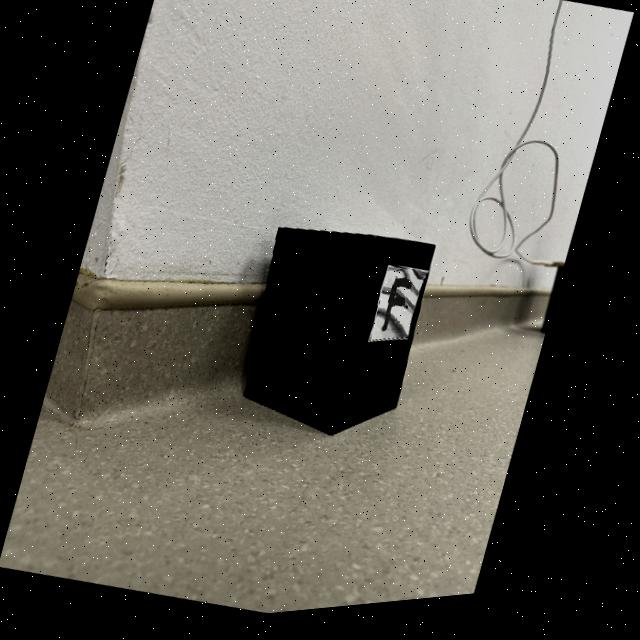F: (383, 286, 412, 339)
